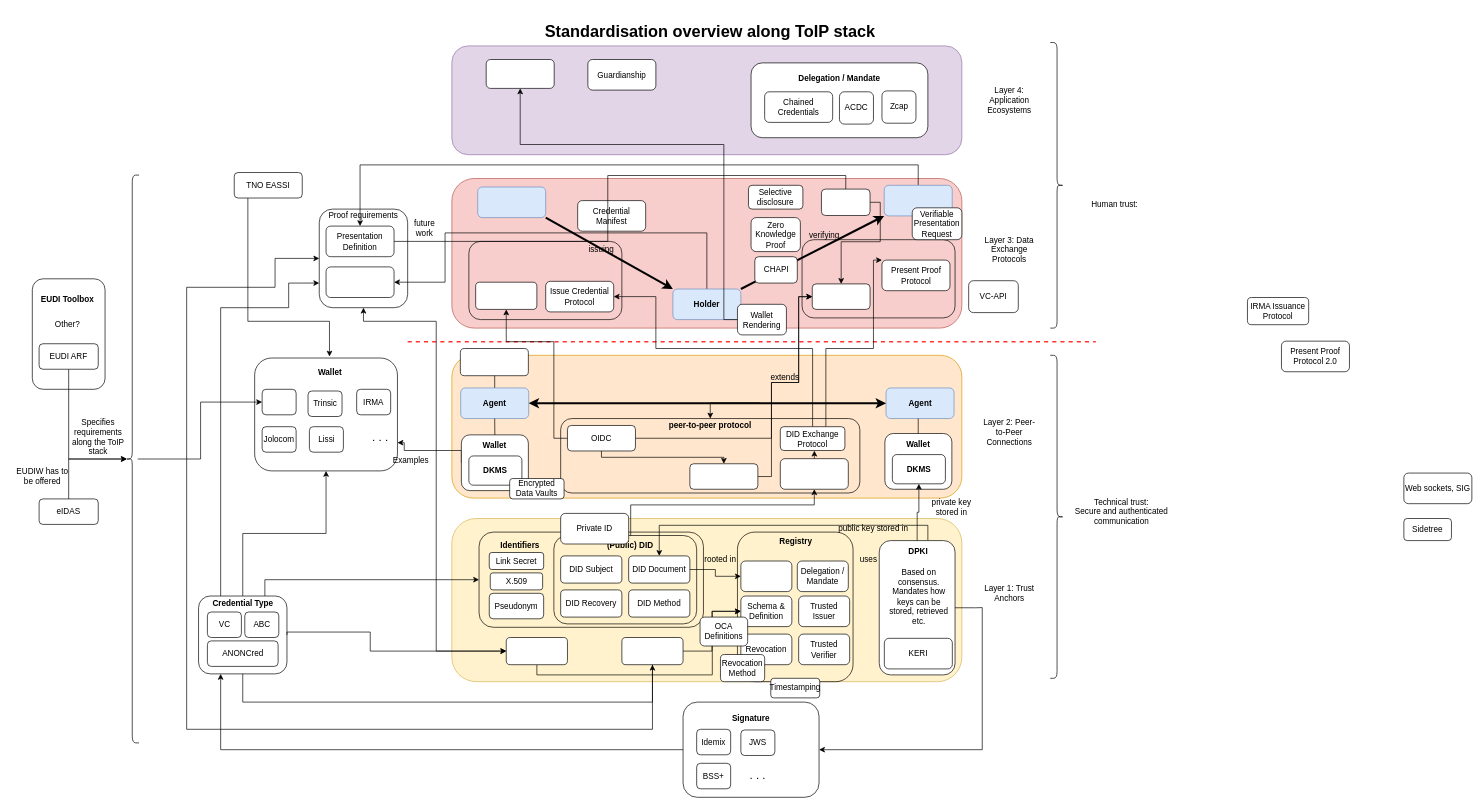
Some shapes in this 1484 by 809 pixel diagram are drawn without their labels. Each missing label, with the centre of its shape:
Accessibility: pixel 520 73
Attribute Schemas: pixel 536 651
Credential Definitions: pixel 652 651
DID Comm: pixel 814 473
EUDIW: pixel 278 402
Identifier: pixel 766 576
Issuer: pixel 511 202
OIDC4VCO/ OIDC4CI: pixel 506 295
OIDC4VP: pixel 841 296
Other agents?: pixel 494 362
Presentation Exchange: pixel 845 201
Presentation Submission: pixel 359 282
SIOPv2: pixel 723 476
Verifier: pixel 918 200
